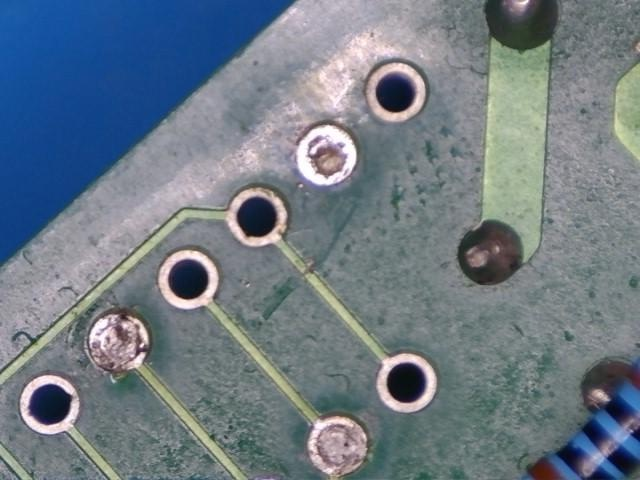pcb_defect: (297, 125, 356, 185), (89, 315, 150, 372), (308, 417, 368, 474)
